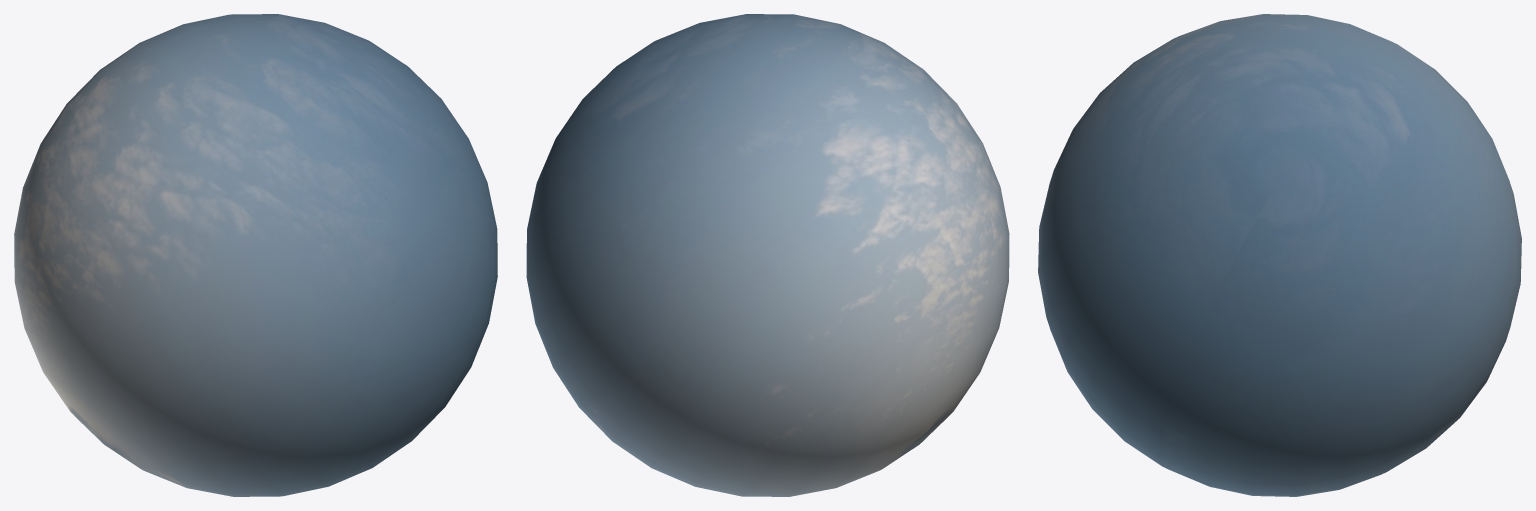
File: elm_trees_free_low_poly.glb
3 renders of one model, left to right at view 1: azimuth 30°, elevation 25°; view 2: azimuth 150°, elevation 25°; view 3: azimuth 270°, elevation 25°, orthographic.
Parts seen in each view (by area): view 1: Sphere_2; view 2: Sphere_2; view 3: Sphere_2.
Boxes of the visible parts, bbox=[...] form: Sphere_2: bbox=[14, 14, 497, 496]; Sphere_2: bbox=[526, 14, 1009, 496]; Sphere_2: bbox=[1038, 14, 1521, 496].
Bounding box in the file's own units: 1285 × 1285 × 1284.
8 materials, 7 textured.
